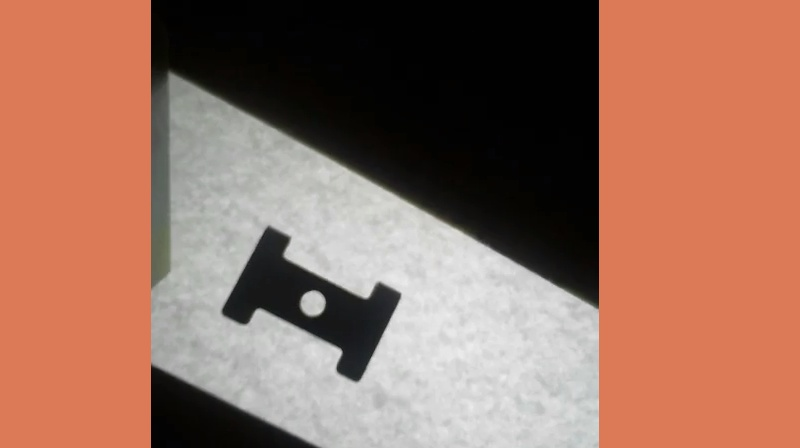O002: (218, 221, 405, 384)
